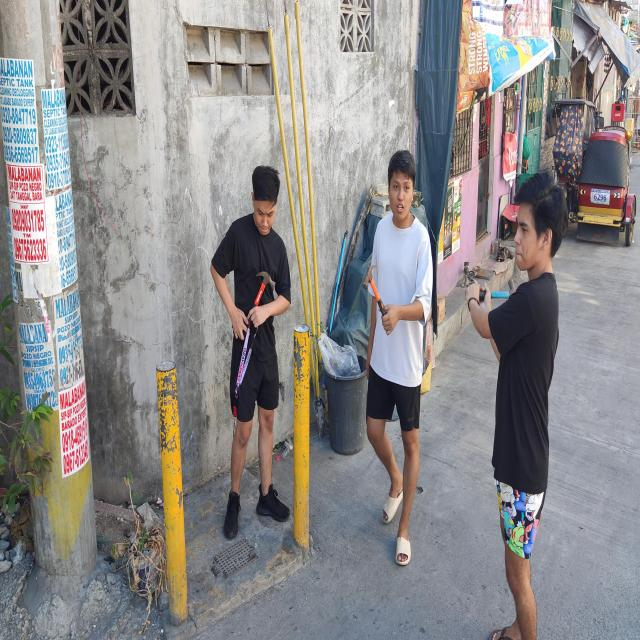hammer: (243, 272, 275, 338), (363, 265, 387, 317), (479, 279, 516, 302)
